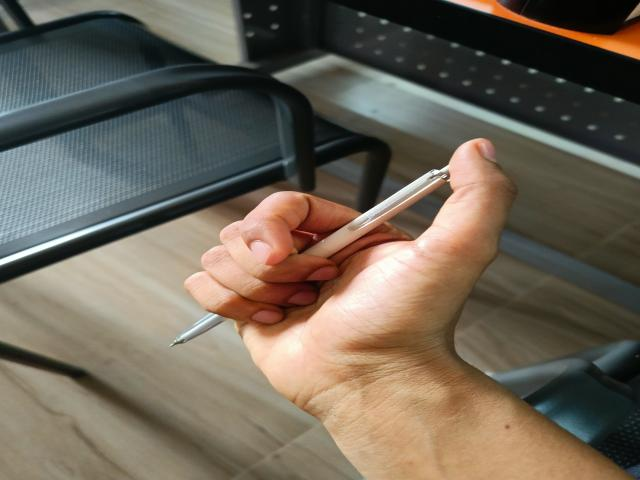PEN: (143, 128, 474, 367)
